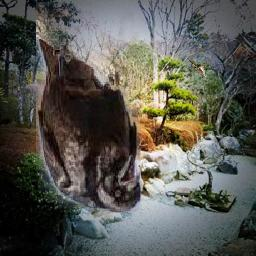Crow: (37, 2, 142, 212)
Cuckoo: (188, 60, 207, 79)
